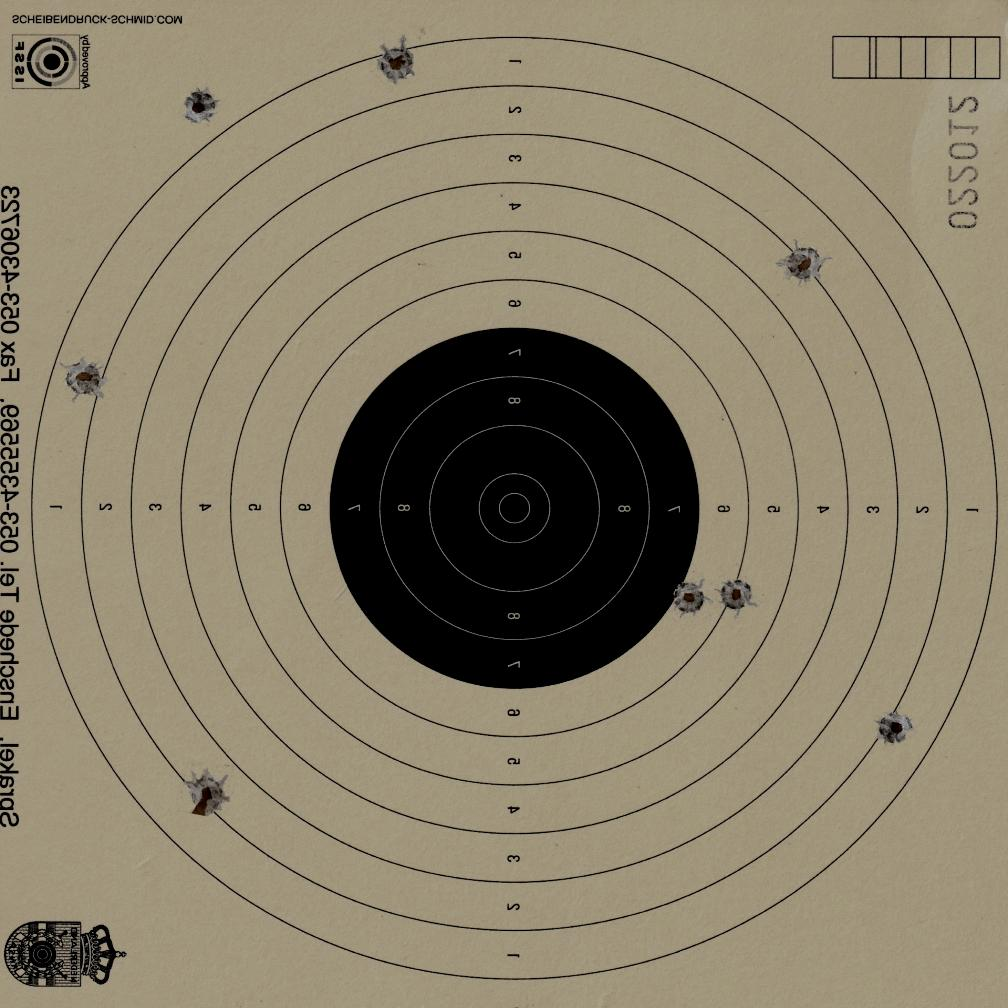0: (181, 85, 218, 126)
1: (375, 35, 417, 85)
2: (56, 350, 110, 404), (182, 766, 232, 818), (873, 707, 916, 746)
3: (775, 239, 833, 286)
6: (713, 578, 757, 618)
7: (671, 579, 712, 620)
Target: (31, 33, 1000, 985)
black_contour: (329, 327, 699, 690)
